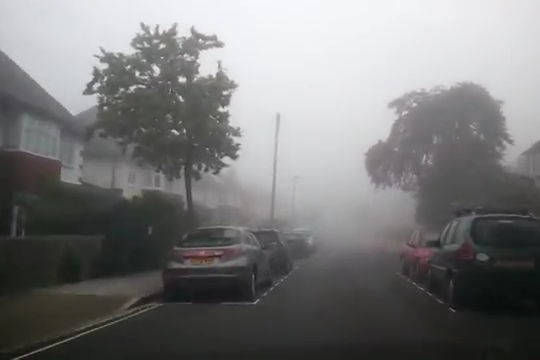car: (423, 207, 538, 307), (161, 224, 273, 302), (399, 225, 461, 286), (237, 227, 295, 275), (275, 229, 309, 259), (289, 227, 316, 254)
